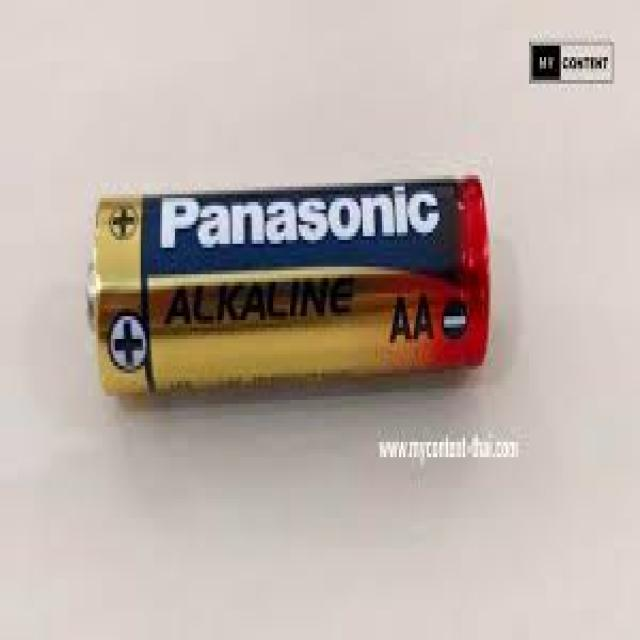battery: (70, 118, 526, 442)
